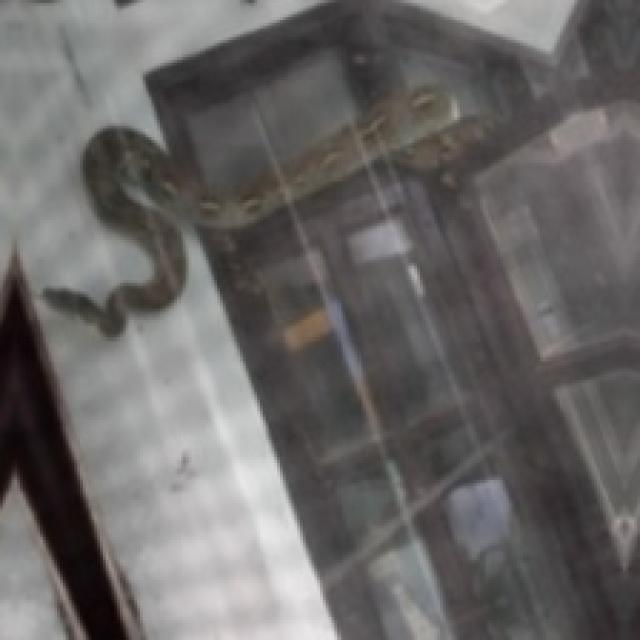reticulated python: (43, 86, 454, 334)
